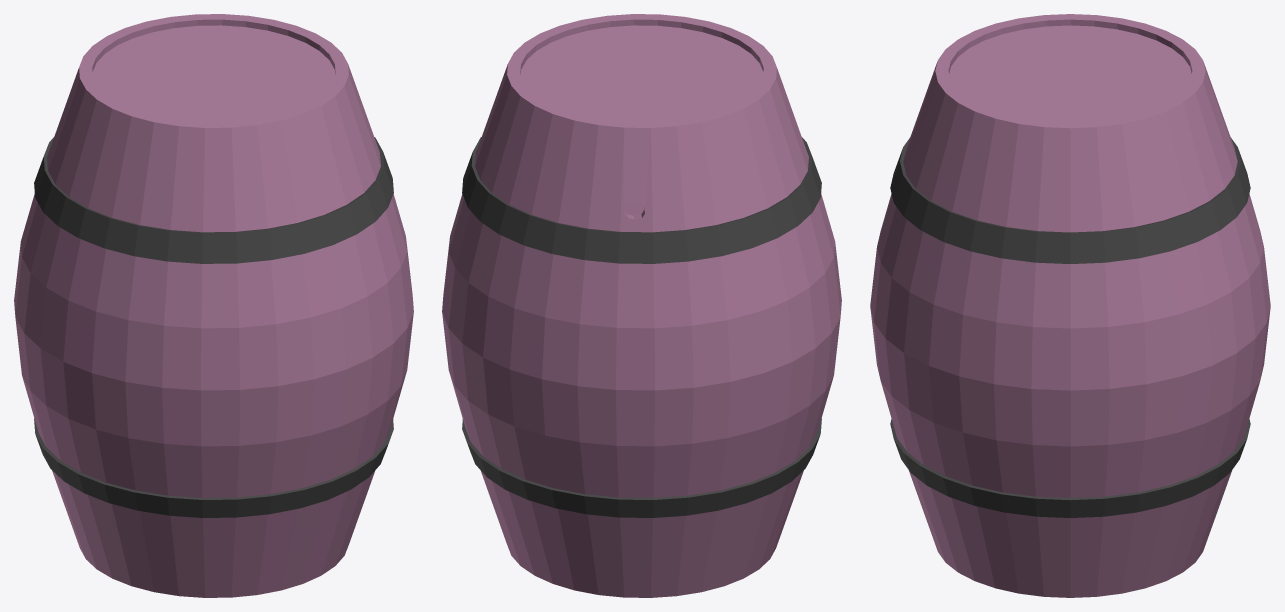
File: Mo_ForestVillageBarrel01.fbx
3 renders of one model, left to right at view 1: azimuth 30°, elevation 25°; view 2: azimuth 150°, elevation 25°; view 3: azimuth 270°, elevation 25°, orthographic.
Parts seen in each view (by area): view 1: Cylinder; view 2: Cylinder; view 3: Cylinder.
Part boxes in pixels (<box>): Cylinder: <box>14,14,413,597</box>; Cylinder: <box>442,14,841,597</box>; Cylinder: <box>870,14,1270,597</box>.
Bounding box in the file's own units: 200 × 259 × 200.
